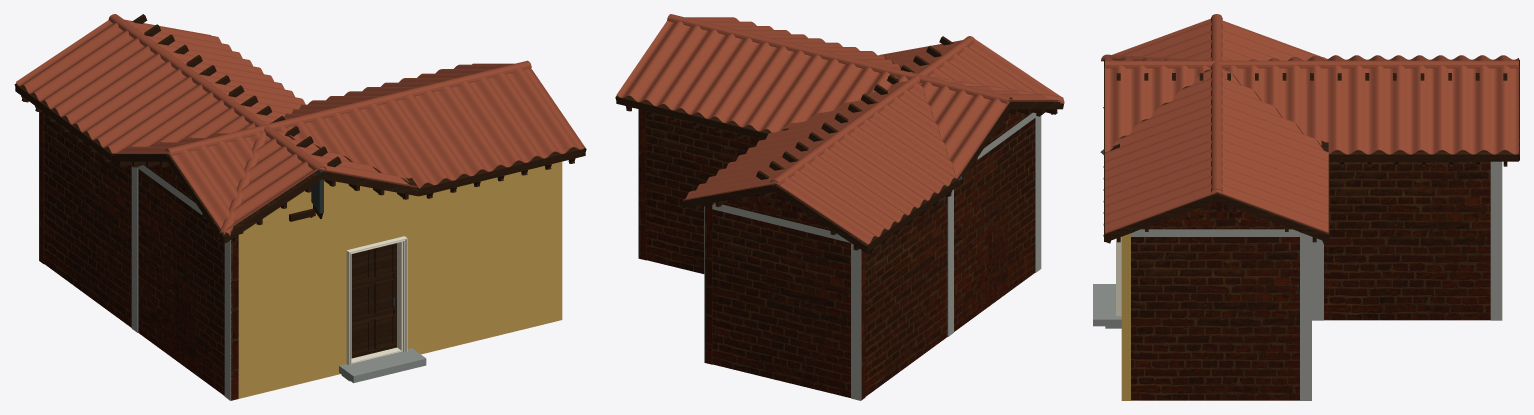
The model's file is building.glb.
3 views of the same model, side by side, from view 1: azimuth 30°, elevation 25°; view 2: azimuth 150°, elevation 25°; view 3: azimuth 270°, elevation 25° (orthographic). The views are drawn at different scales.
Visible parts, largest first — view 1: house:0/edge0/z0/house:0/edge0/z0/wall_0_0, house:0/edge5/z0/house:0/edge5/z0/wall_0_0, site/entrance/0/entrance_step#0002, roof_assembly/cubierta/roof_fascia#0003, house:0/edge5/z0/house:0/edge5/z0/column_2_0, house:0/edge5/z0/house:0/edge5/z0/column_1_0, house:0/edge0/z0/opening_u2.80_v0.12/door_panel_back#0001, house:0/edge4/z0/house:0/edge4/z0/wall_0_0, roof_assembly/cubierta/roof_fascia#0010, roof_assembly/cubierta/roof_fascia#0009, roof_assembly/cubierta/roof_fascia#0014, house:0/edge0/z0/opening_u2.80_v0.12/door_reveal#0001 (+6 smaller); view 2: house:0/edge5/z0/house:0/edge5/z0/wall_0_0, house:0/edge4/z0/house:0/edge4/z0/wall_0_0, house:0/edge2/z0/house:0/edge2/z0/wall_0_0, house:0/edge4/z0/house:0/edge4/z0/column_1_0, house:0/edge3/z0/house:0/edge3/z0/wall_0_0, house:0/edge1/z0/house:0/edge1/z0/wall_0_0, roof_assembly/cubierta/roof_fascia#0007, house:0/edge5/z0/house:0/edge5/z0/column_1_0, house:0/edge4/z0/house:0/edge4/z0/beam_0_0, house:0/edge5/z0/house:0/edge5/z0/column_2_0, roof_assembly/cubierta/roof_gable_closure#0021, roof_assembly/cubierta/roof_fascia#0008 (+6 smaller); view 3: house:0/edge1/z0/house:0/edge1/z0/wall_0_0, house:0/edge3/z0/house:0/edge3/z0/wall_0_0, house:0/edge3/z0/house:0/edge3/z0/column_1_0, house:0/edge1/z0/house:0/edge1/z0/column_1_0, house:0/edge0/z0/house:0/edge0/z0/wall_0_0, roof_assembly/cubierta/roof_fascia#0013, house:0/edge1/z0/house:0/edge1/z0/beam_0_0, roof_assembly/cubierta/roof_gable_closure#0008, roof_assembly/cubierta/roof_gable_closure#0006, site/entrance/0/entrance_step#0002, roof_assembly/cubierta/roof_fascia#0004, roof_assembly/cubierta/roof_fascia#0006 (+3 smaller).
Part boxes in pixels (x1,y1,x2,y2): house:0/edge0/z0/house:0/edge0/z0/wall_0_0: (238,161,562,398); house:0/edge5/z0/house:0/edge5/z0/wall_0_0: (44,113,238,400); site/entrance/0/entrance_step#0002: (339,348,426,383); roof_assembly/cubierta/roof_fascia#0003: (419,149,585,196); house:0/edge5/z0/house:0/edge5/z0/column_2_0: (131,166,138,332); house:0/edge5/z0/house:0/edge5/z0/column_1_0: (224,240,231,400); house:0/edge0/z0/opening_u2.80_v0.12/door_panel_back#0001: (351,248,392,349); house:0/edge4/z0/house:0/edge4/z0/wall_0_0: (39,111,44,263); roof_assembly/cubierta/roof_fascia#0010: (223,172,323,242); roof_assembly/cubierta/roof_fascia#0009: (15,84,111,161); roof_assembly/cubierta/roof_fascia#0014: (321,171,420,196); house:0/edge0/z0/opening_u2.80_v0.12/door_reveal#0001: (346,236,404,363); house:0/edge5/z0/house:0/edge5/z0/wall_0_0: (865,118,1035,396); house:0/edge4/z0/house:0/edge4/z0/wall_0_0: (712,209,865,400); house:0/edge2/z0/house:0/edge2/z0/wall_0_0: (646,111,759,273); house:0/edge4/z0/house:0/edge4/z0/column_1_0: (851,243,861,400); house:0/edge3/z0/house:0/edge3/z0/wall_0_0: (705,205,712,364); house:0/edge1/z0/house:0/edge1/z0/wall_0_0: (639,109,646,260); roof_assembly/cubierta/roof_fascia#0007: (616,97,768,139); house:0/edge5/z0/house:0/edge5/z0/column_1_0: (1035,116,1041,272); house:0/edge4/z0/house:0/edge4/z0/beam_0_0: (712,202,850,242); house:0/edge5/z0/house:0/edge5/z0/column_2_0: (947,189,953,336); roof_assembly/cubierta/roof_gable_closure#0021: (715,192,782,218); roof_assembly/cubierta/roof_fascia#0008: (773,185,867,251); house:0/edge1/z0/house:0/edge1/z0/wall_0_0: (1131,237,1299,400); house:0/edge3/z0/house:0/edge3/z0/wall_0_0: (1324,161,1490,320); house:0/edge3/z0/house:0/edge3/z0/column_1_0: (1490,161,1502,320); house:0/edge1/z0/house:0/edge1/z0/column_1_0: (1300,237,1311,400); house:0/edge0/z0/house:0/edge0/z0/wall_0_0: (1121,233,1130,400); roof_assembly/cubierta/roof_fascia#0013: (1329,154,1518,161); house:0/edge1/z0/house:0/edge1/z0/beam_0_0: (1131,229,1311,236); roof_assembly/cubierta/roof_gable_closure#0008: (1216,201,1291,229); roof_assembly/cubierta/roof_gable_closure#0006: (1141,201,1216,229); site/entrance/0/entrance_step#0002: (1093,284,1121,326); roof_assembly/cubierta/roof_fascia#0004: (1103,194,1217,241); roof_assembly/cubierta/roof_fascia#0006: (1215,194,1329,241).
Size of the model in its own units: 8.81 by 5.11 by 8.97.
8 materials, 2 textured.
